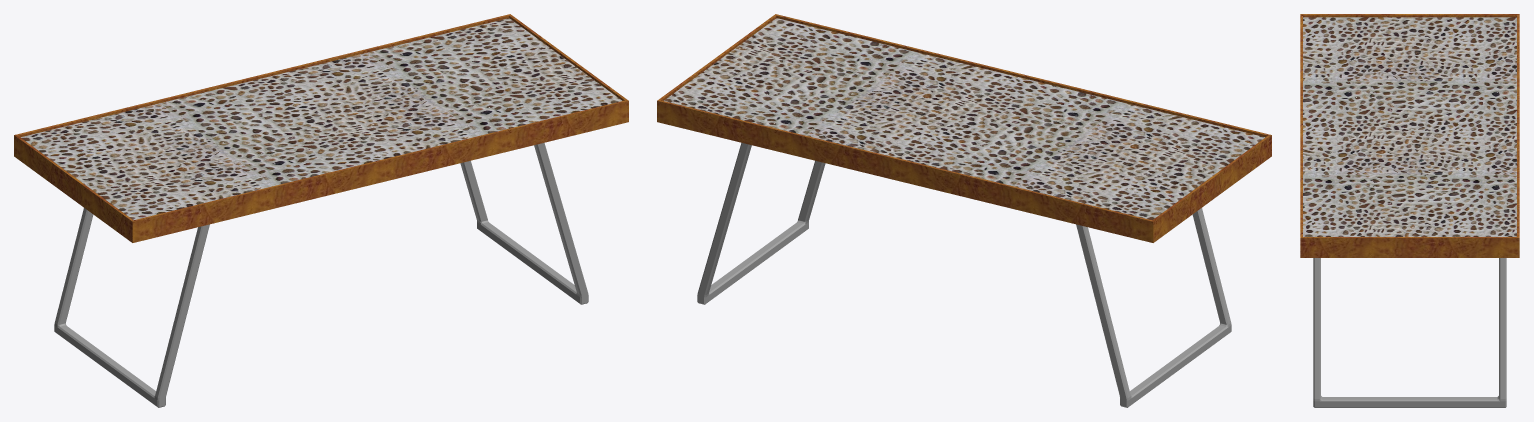
File: sh_scopia_coffee_table2.glb
3 renders of one model, left to right at view 1: azimuth 30°, elevation 25°; view 2: azimuth 150°, elevation 25°; view 3: azimuth 270°, elevation 25°, orthographic. The views are drawn at different scales.
Size of the model in its own units: 1.24 by 0.477 by 0.512.
3 materials, 2 textured.
